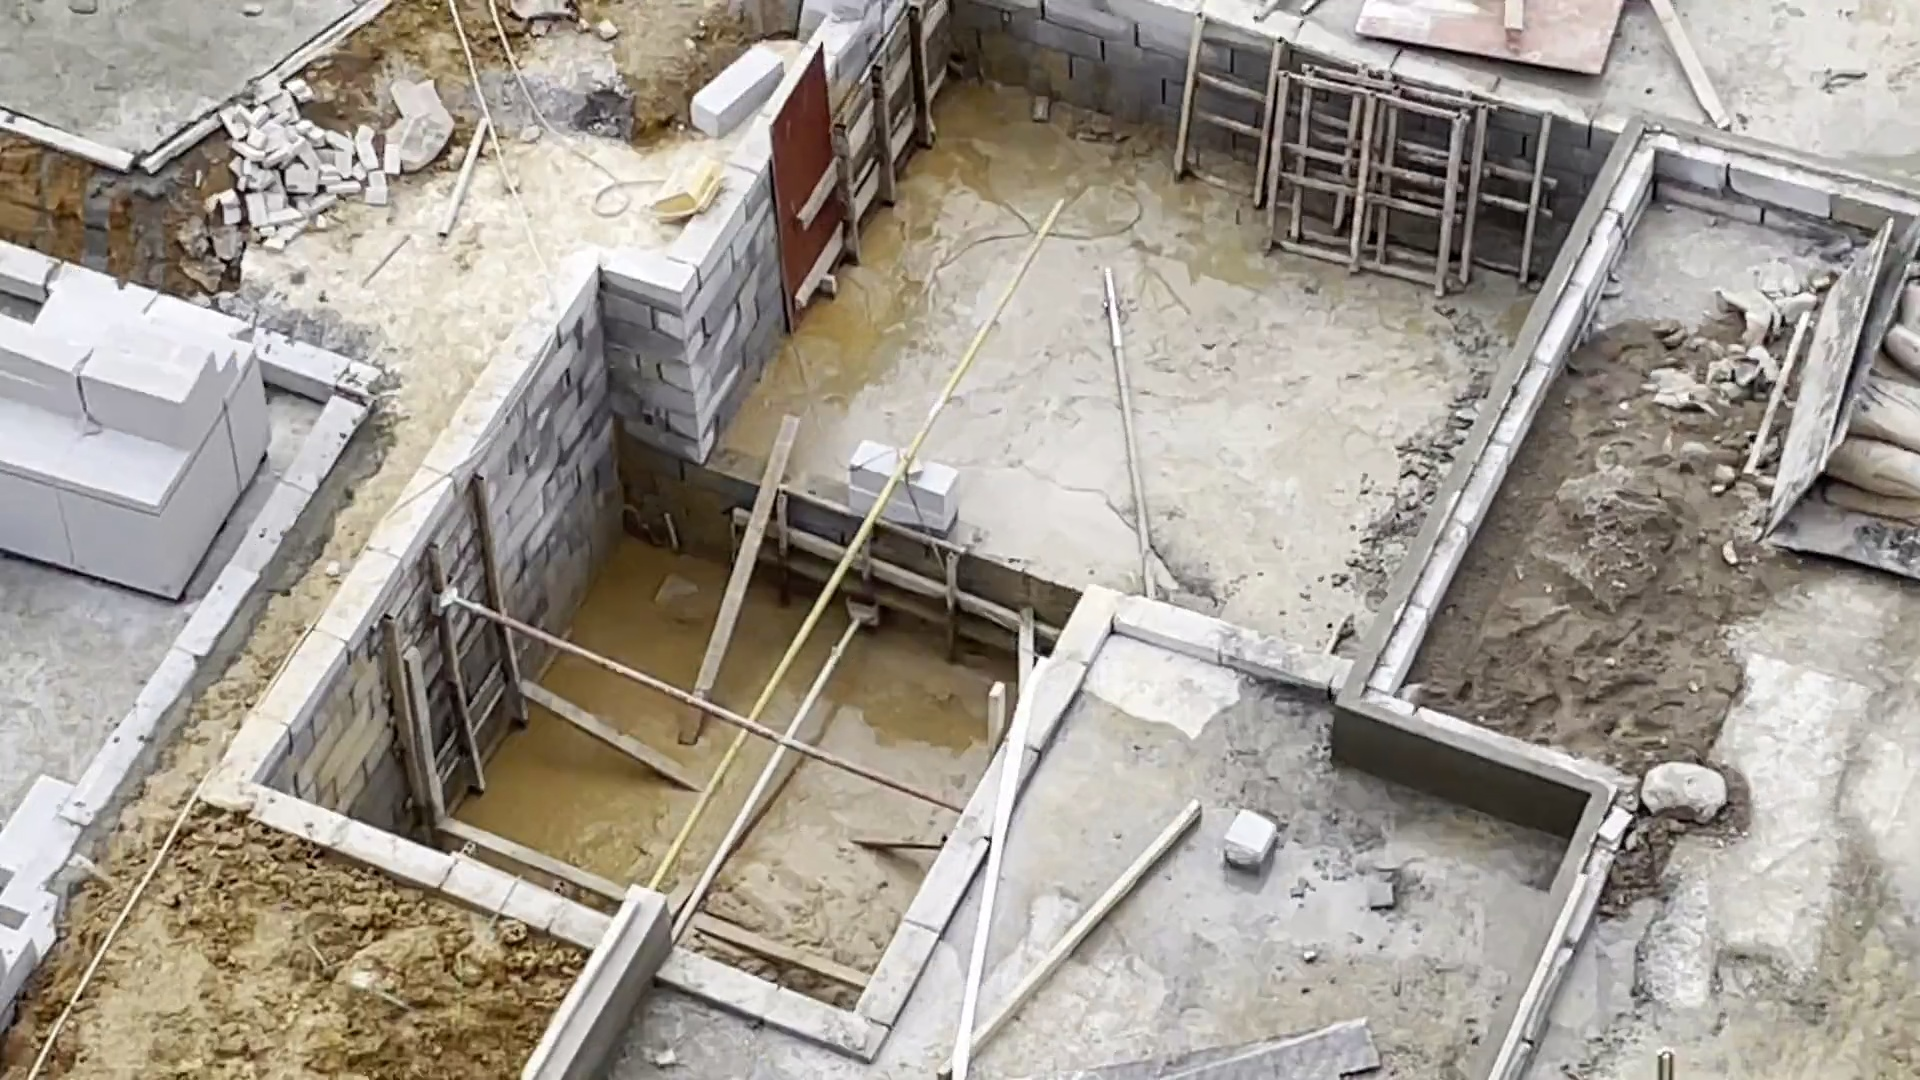brick: (1, 266, 268, 605)
